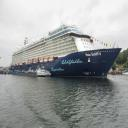cruises: (9, 21, 124, 82)
